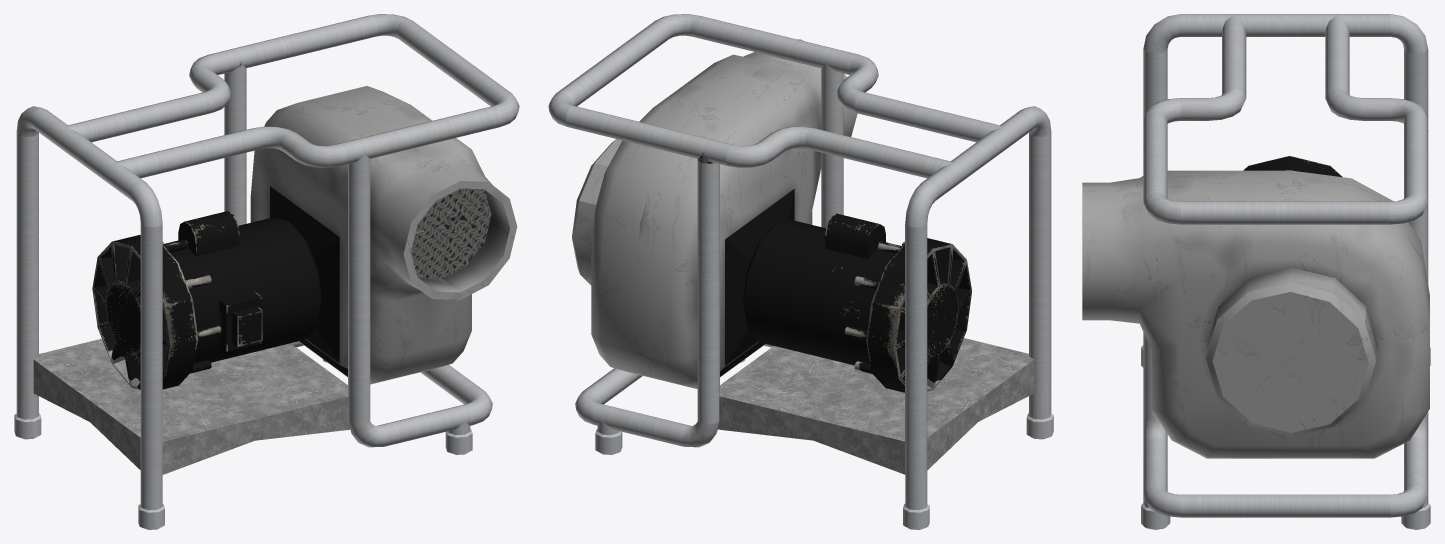
File: manguera.fbx
3 renders of one model, left to right at view 1: azimuth 30°, elevation 25°; view 2: azimuth 150°, elevation 25°; view 3: azimuth 270°, elevation 25°, orthographic. The views are drawn at different scales.
Parts seen in each view (by area): view 1: Cylinder013, Box001, Cylinder001, Box002; view 2: Cylinder013, Box001, Cylinder001, Box002; view 3: Box001, Cylinder013, Cylinder001.
Part boxes in pixels (bbox=[...]): Cylinder013: bbox=[14, 14, 519, 529]; Box001: bbox=[250, 86, 517, 384]; Cylinder001: bbox=[92, 186, 347, 389]; Box002: bbox=[33, 338, 350, 474]; Cylinder013: bbox=[548, 14, 1053, 529]; Box001: bbox=[572, 39, 857, 388]; Cylinder001: bbox=[720, 189, 971, 392]; Box002: bbox=[717, 338, 1034, 474]; Box001: bbox=[1082, 170, 1429, 458]; Cylinder013: bbox=[1141, 14, 1430, 529]; Cylinder001: bbox=[1243, 156, 1342, 177].
Bounding box in the file's own units: 385 × 318 × 285.
Materials: 1 (1 with a texture image).
